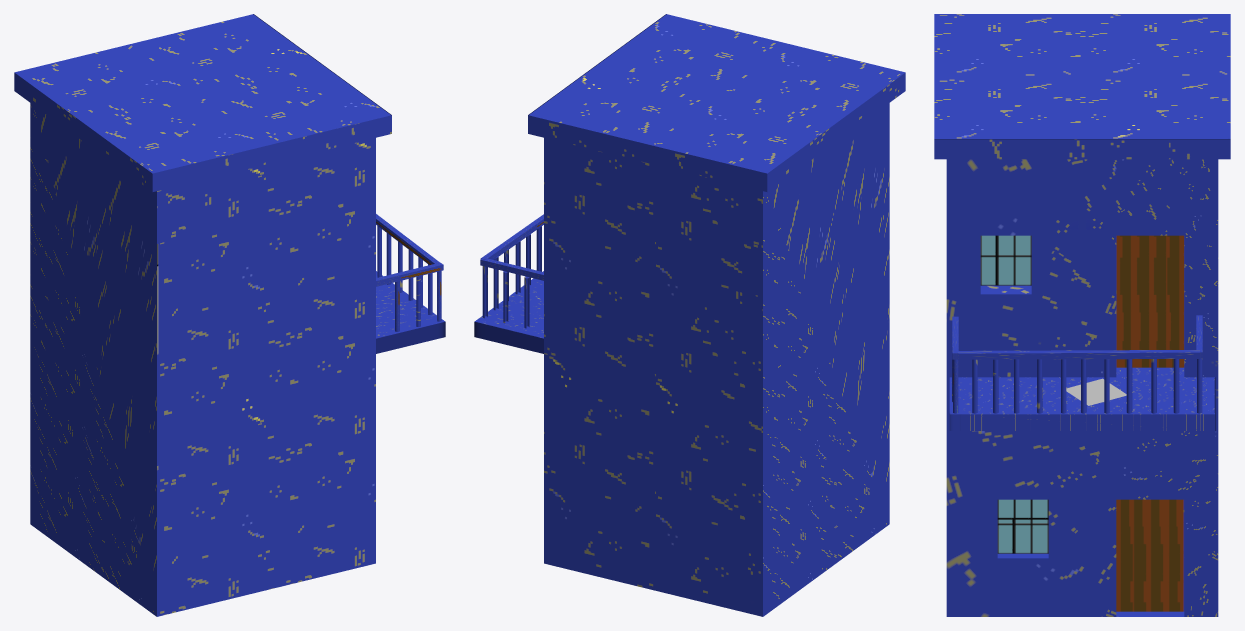
Rendered from 2 Story Building Asset Textured.fbx.
3 views of the same model, side by side, from view 1: azimuth 30°, elevation 25°; view 2: azimuth 150°, elevation 25°; view 3: azimuth 270°, elevation 25° (orthographic). The views are drawn at different scales.
Parts seen in each view (by area): view 1: Cube; view 2: Cube; view 3: Cube, Plane.
Boxes of the visible parts, x1,y1,x2,y2 form: Cube: (14,14,445,616); Cube: (474,14,905,616); Cube: (934,14,1230,616); Plane: (1066,378,1126,405).
Size of the model in its own units: 1037 by 1482 by 825.
